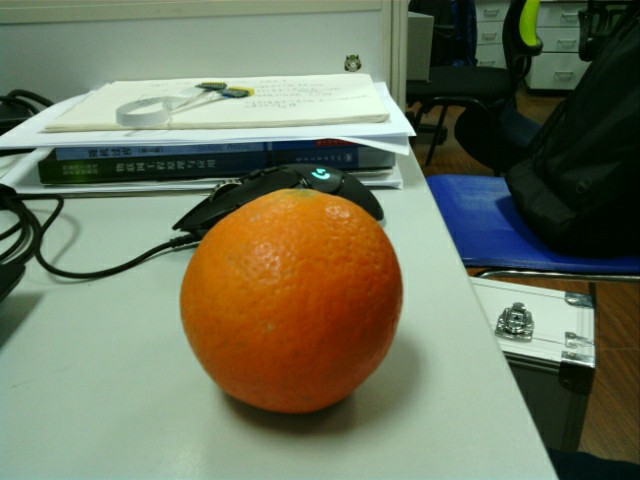normal_orange: (180, 186, 403, 416)
